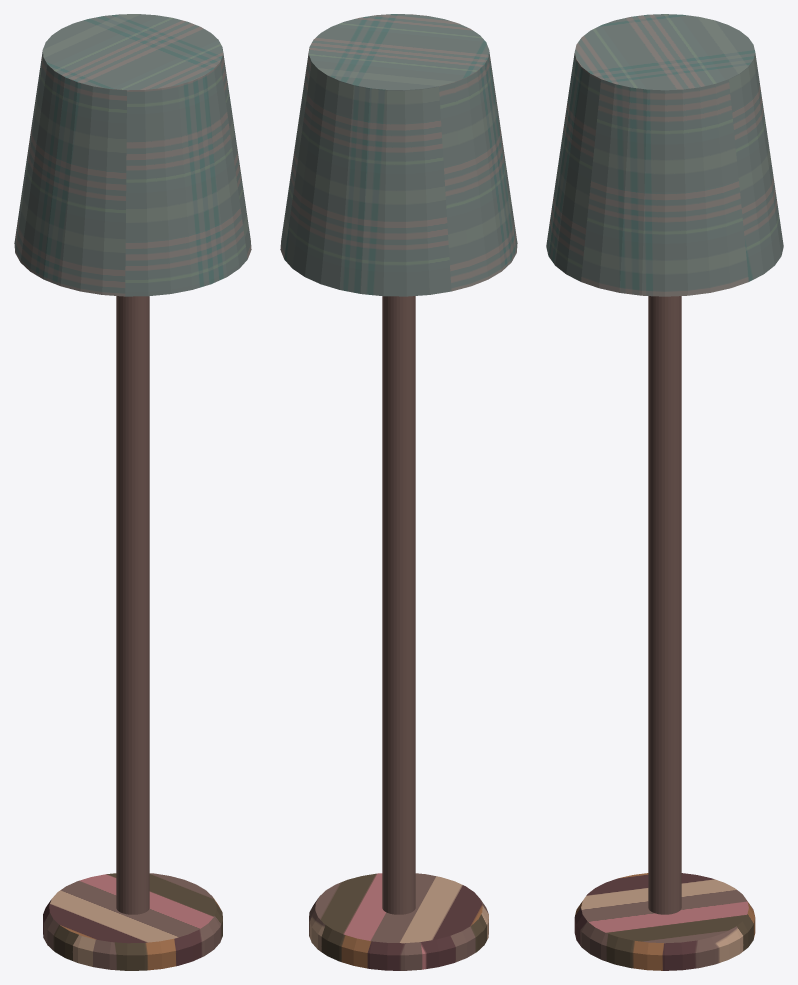
The model's file is standinglamp.fbx.
The picture shows the model from 3 angles, left to right: view 1: azimuth 30°, elevation 25°; view 2: azimuth 150°, elevation 25°; view 3: azimuth 270°, elevation 25°; orthographic projection.
Parts seen in each view (by area): view 1: stick, lamp, bottom; view 2: stick, lamp, bottom; view 3: stick, lamp, bottom.
Part boxes in pixels (<box>): stick: <box>14,14,251,296</box>; lamp: <box>116,296,149,914</box>; bottom: <box>43,873,222,970</box>; stick: <box>280,14,517,296</box>; lamp: <box>382,296,415,914</box>; bottom: <box>309,873,488,970</box>; stick: <box>546,14,783,296</box>; lamp: <box>648,296,681,914</box>; bottom: <box>574,873,755,970</box>.
Bounding box in the file's own units: 263 × 1076 × 263.
Materials: 3 (2 with a texture image).
